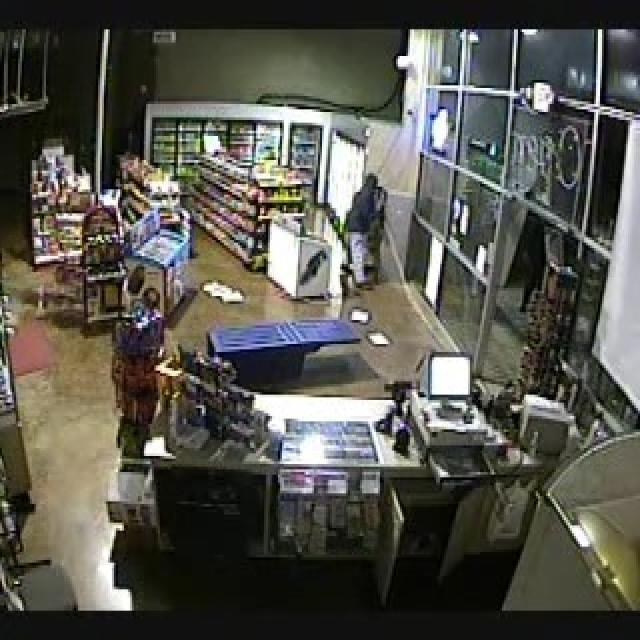burglary: (444, 162, 546, 373)
